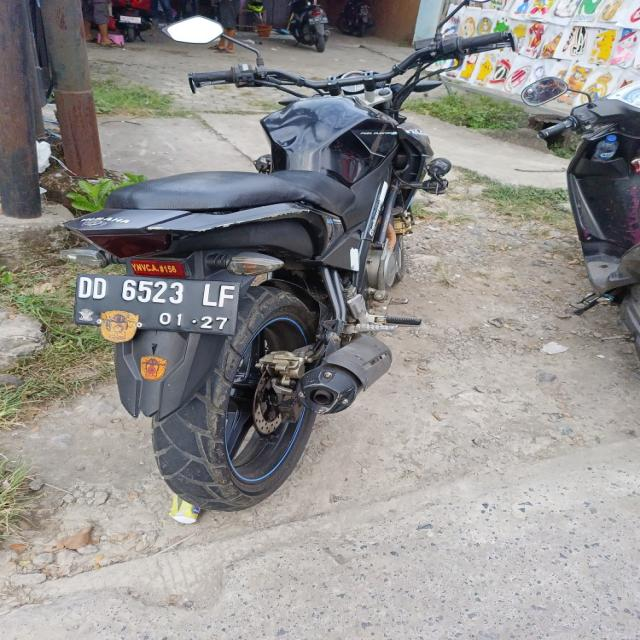plates: (75, 278, 252, 344)
